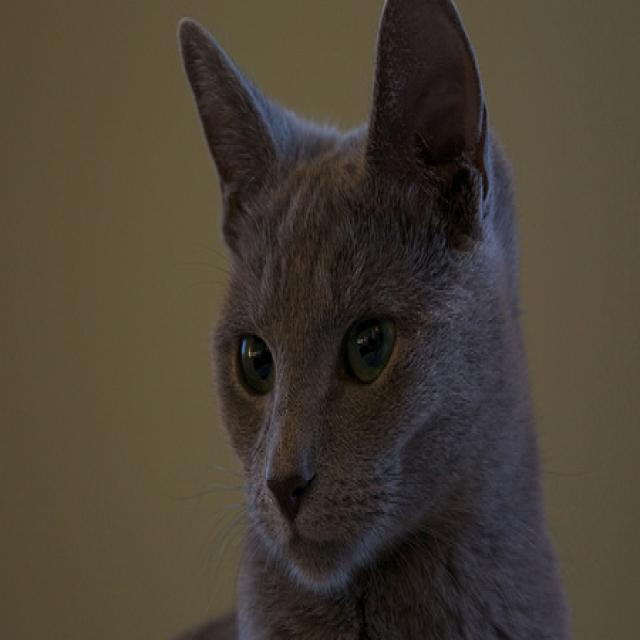Russian Blue: (125, 0, 579, 640)
